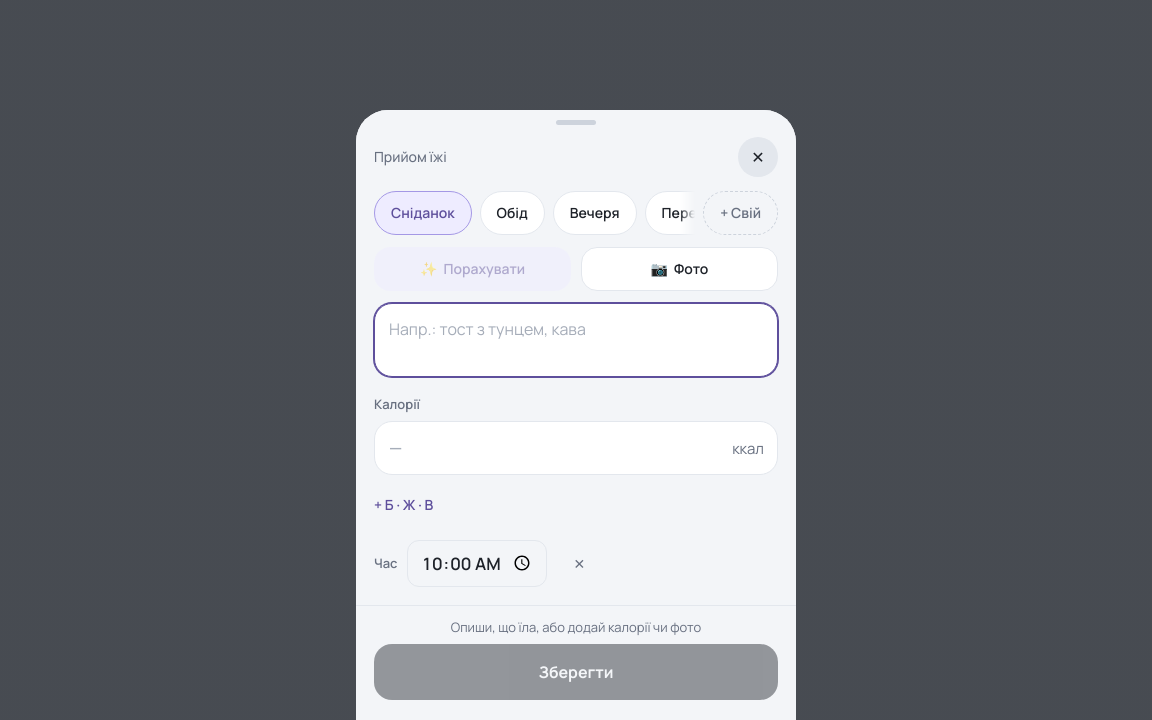
it: MealSheet › a refused save stays open and says so (an alert above «Зберегти»)
Type "борщ" into the text box named "Що я їла". click: (576, 340)
box: [374,303,778,377]
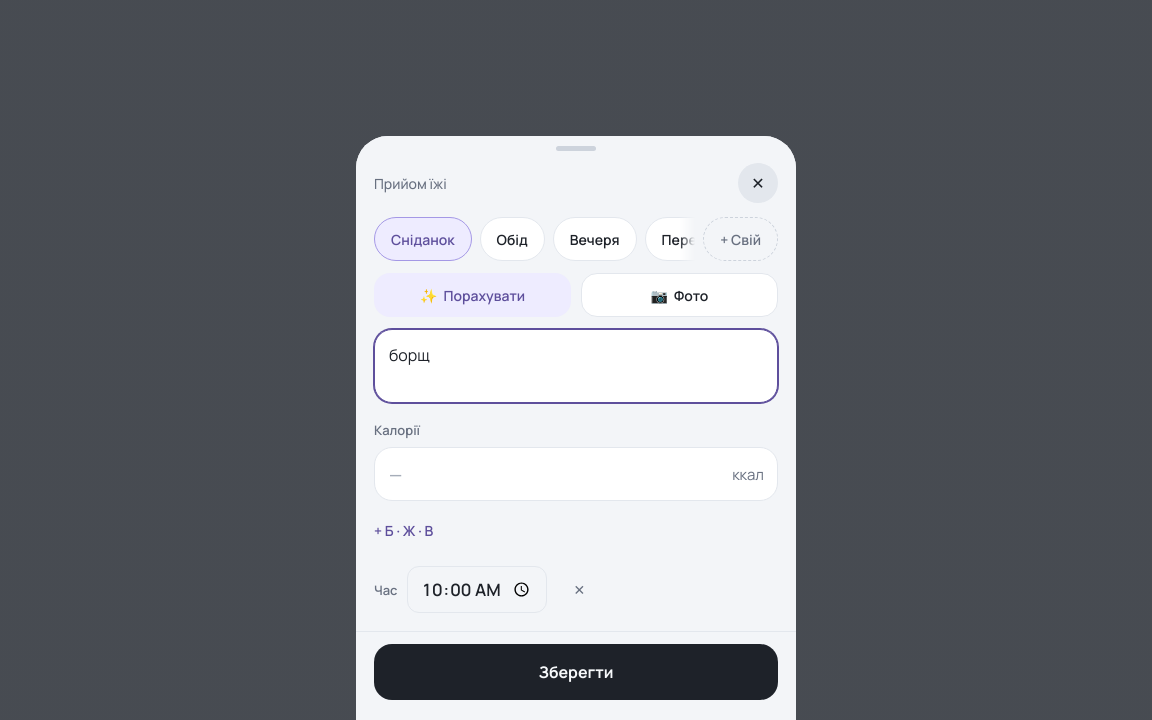
Click the button "Зберегти". click: (576, 672)
box: [374,644,778,700]
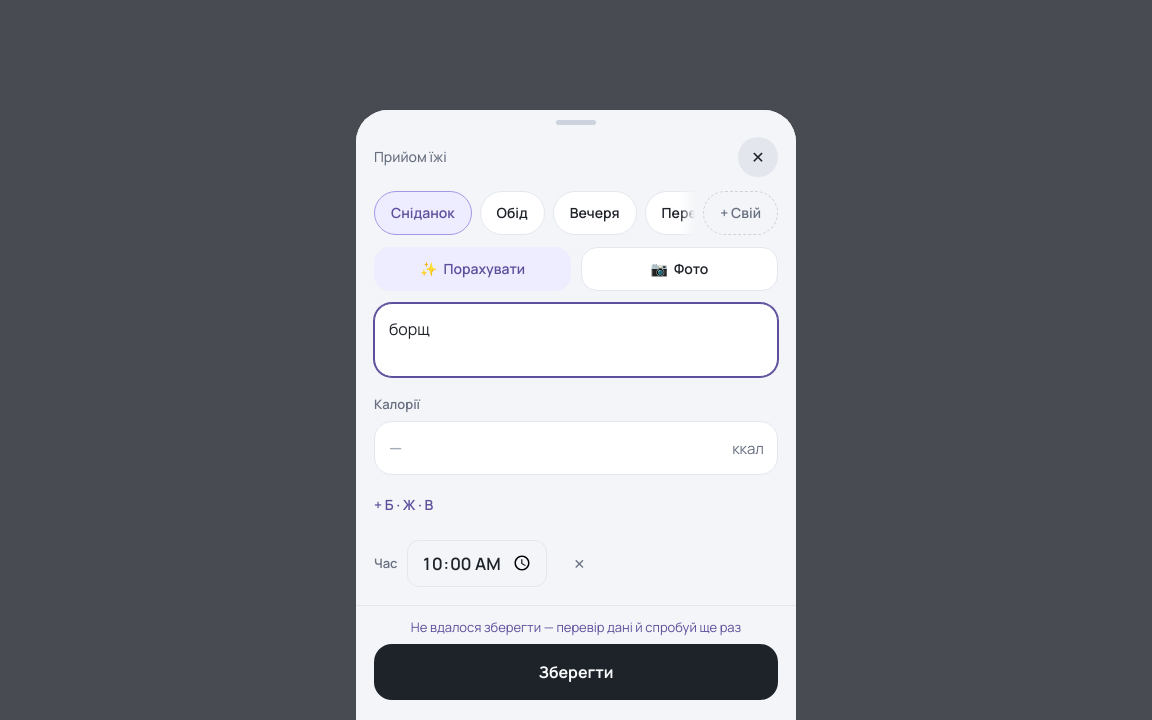
Check: the message reads "Не вдалося зберегти — перевір дані й спробуй ще раз", box [411,618,741,636]
